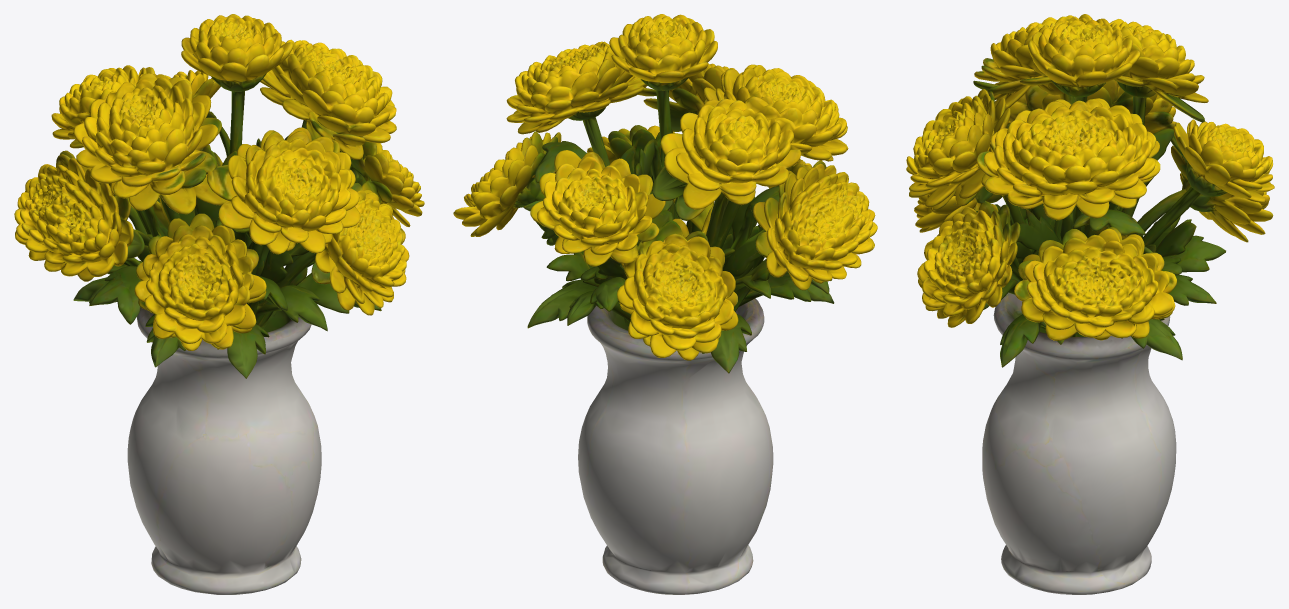
File: HoaCuc.glb
3 views of the same model, side by side, from view 1: azimuth 30°, elevation 25°; view 2: azimuth 150°, elevation 25°; view 3: azimuth 270°, elevation 25° (orthographic).
Visible parts, largest first — view 1: Mesh_0; view 2: Mesh_0; view 3: Mesh_0.
Part boxes in pixels (<box>): Mesh_0: <box>14,14,424,594</box>; Mesh_0: <box>453,14,877,594</box>; Mesh_0: <box>906,14,1274,594</box>.
Bounding box in the file's own units: 0.8659 × 1.17 × 0.7212.
1 material, 1 textured.
